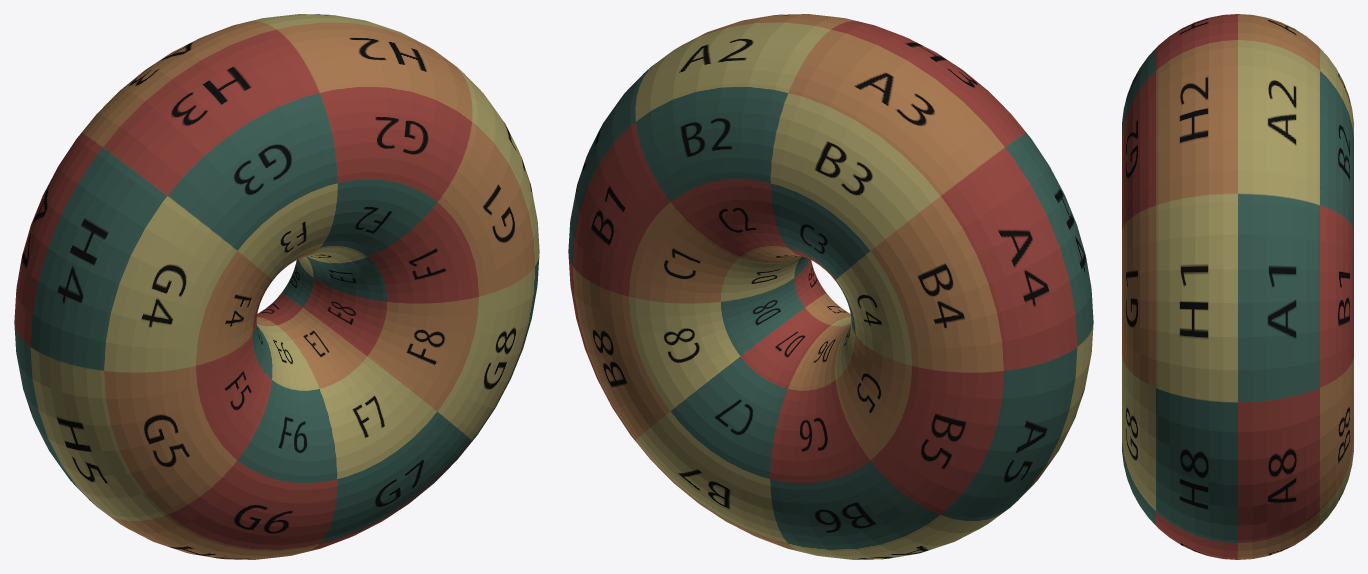
Rendered from texture_torus_R2_r24.glb.
3 renders of one model, left to right at view 1: azimuth 30°, elevation 25°; view 2: azimuth 150°, elevation 25°; view 3: azimuth 270°, elevation 25°, orthographic. The views are drawn at different scales.
Parts seen in each view (by area): view 1: world; view 2: world; view 3: world.
Boxes of the visible parts, x1=… form: world: x1=14, y1=14, x2=539, y2=559; world: x1=568, y1=14, x2=1093, y2=559; world: x1=1122, y1=14, x2=1353, y2=559.
Size of the model in its own units: 19.73 by 19.69 by 8.38.
1 material, 1 textured.
